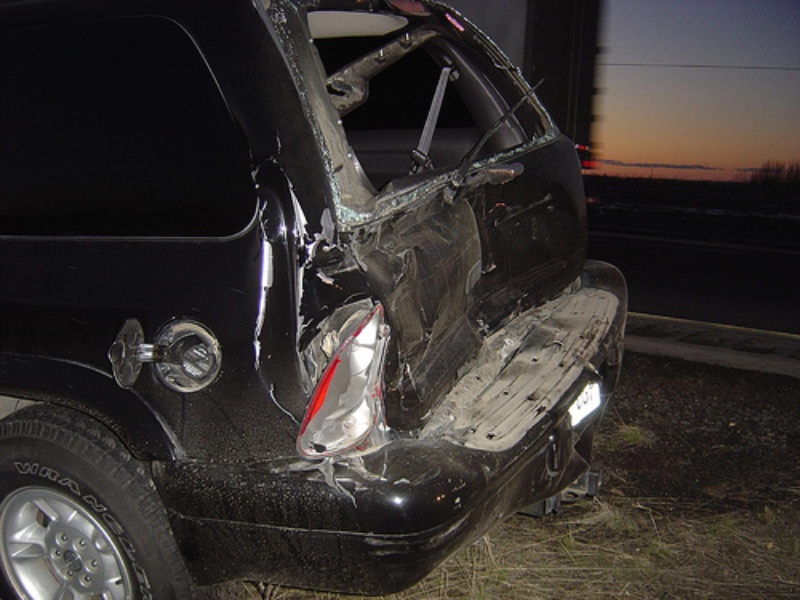car: (1, 1, 631, 600)
